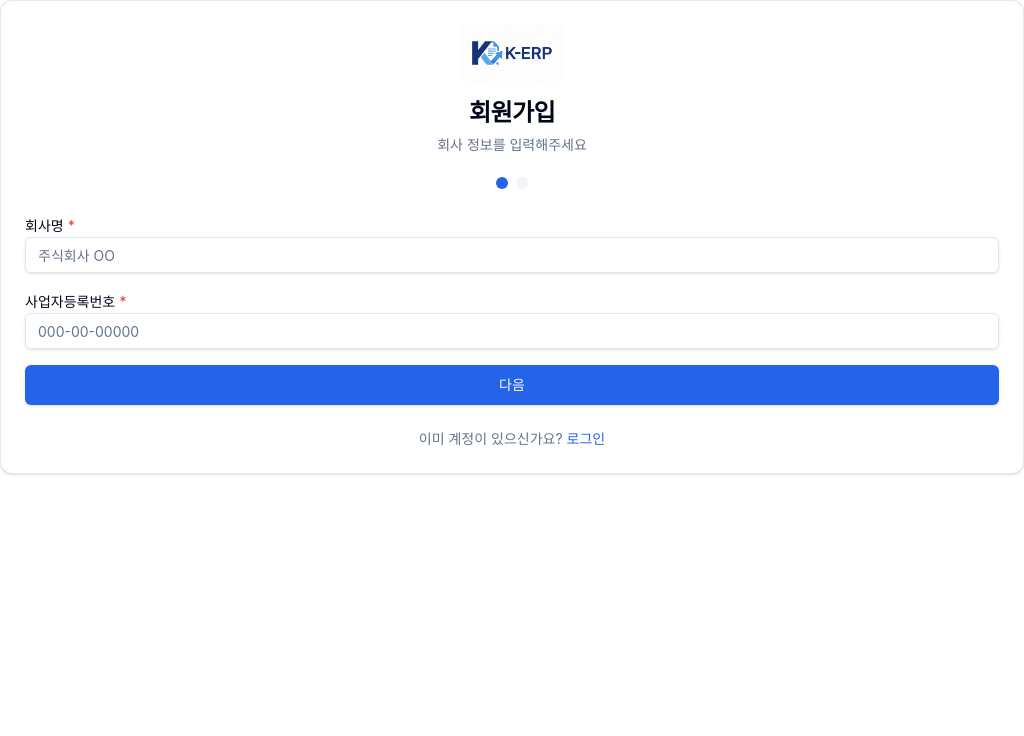
RegisterPage › shows the app validation messages when step 2 is submitted empty
The image size is (1024, 736).
Type "주식회사 테스트" into the field labelled "회사명*" at {"x": 512, "y": 255}, box [25,237,999,273]
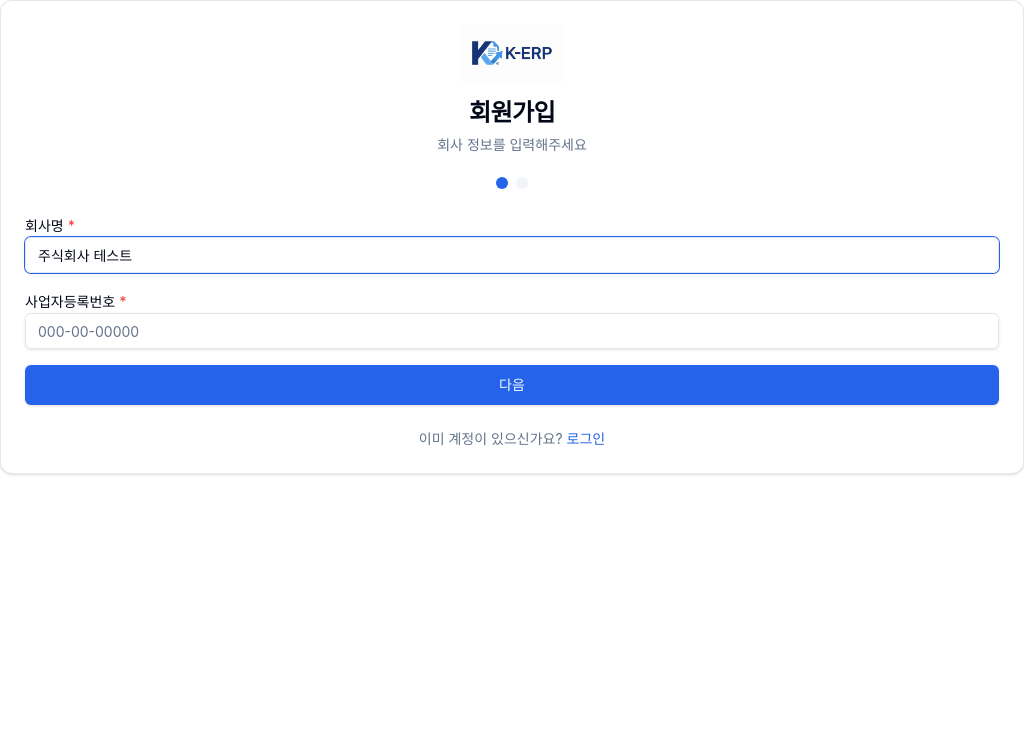
Type "123-45-67890" into the field labelled "사업자등록번호*" at {"x": 512, "y": 331}, box [25,313,999,349]
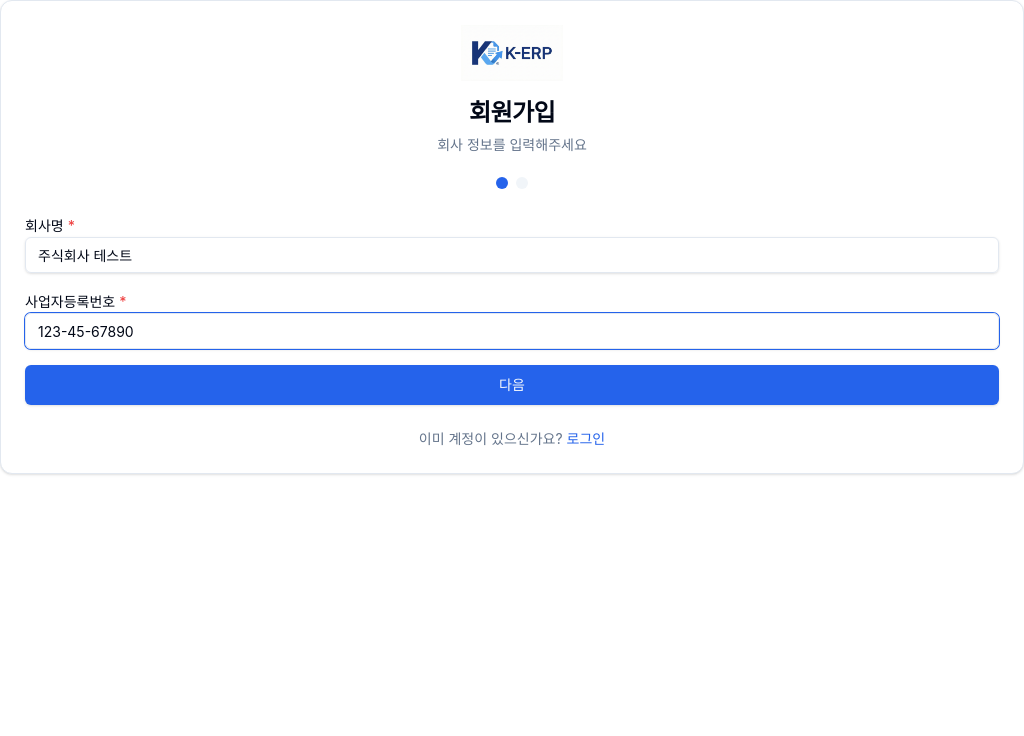
Click the button "다음" at {"x": 512, "y": 385}, box [25,365,999,405]
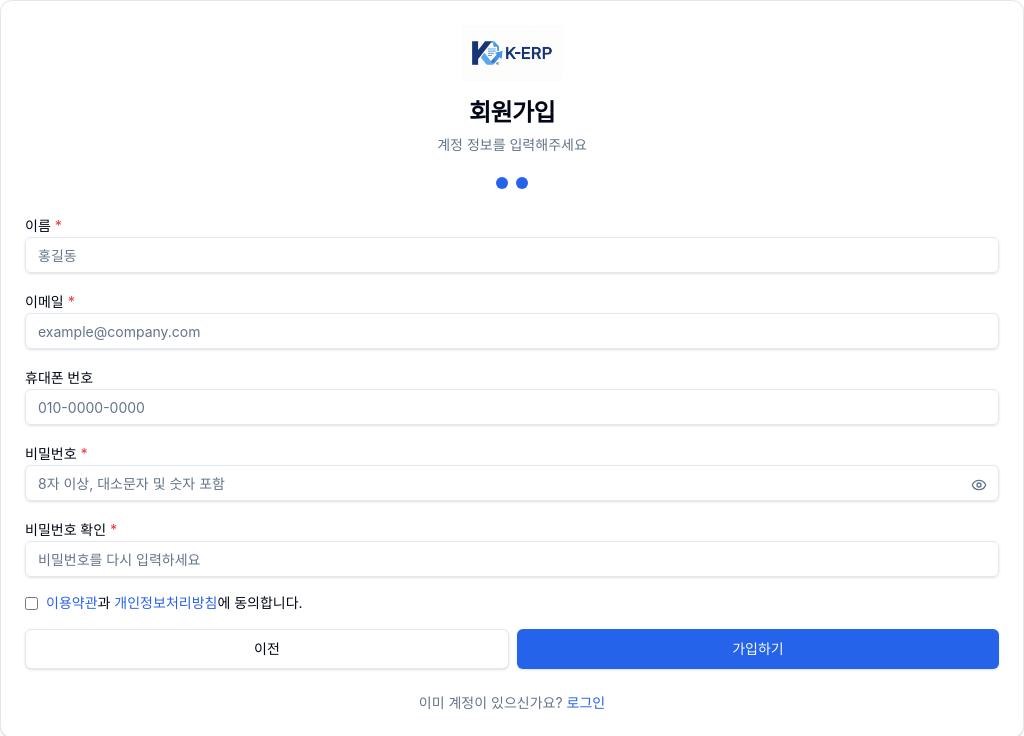
Click the button "가입하기" at {"x": 758, "y": 649}, box [517,629,999,669]
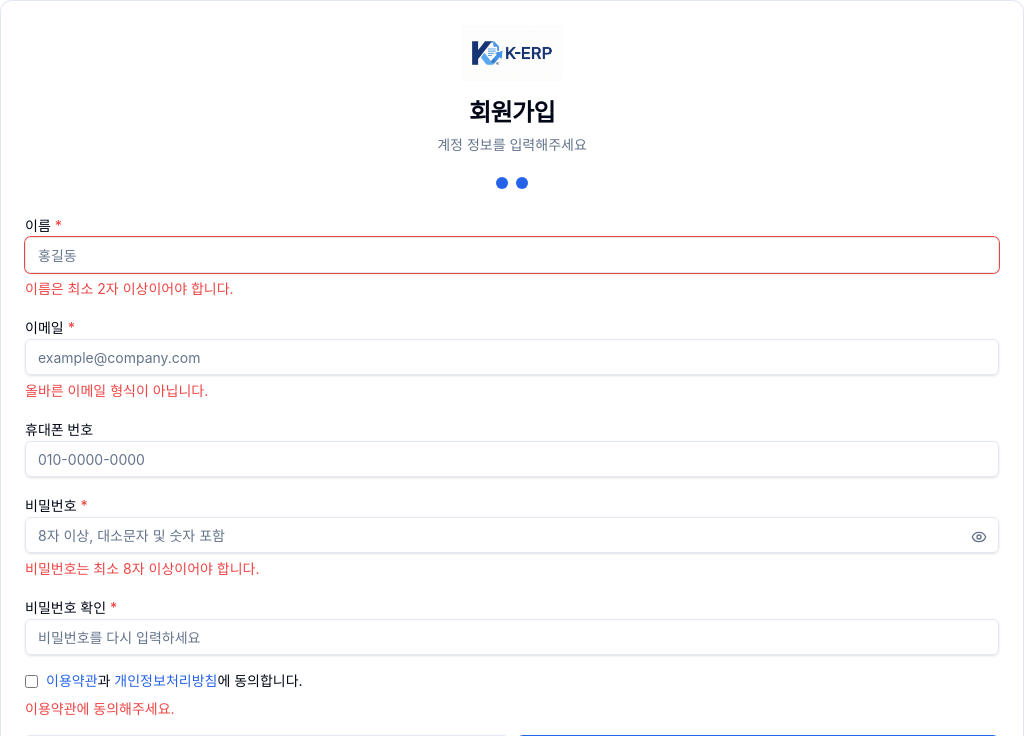
Expected: the text "이름은 최소 2자 이상이어야 합니다." is shown, [25,280,234,297]
Expected: the text "올바른 이메일 형식이 아닙니다." is shown, [25,382,208,399]
